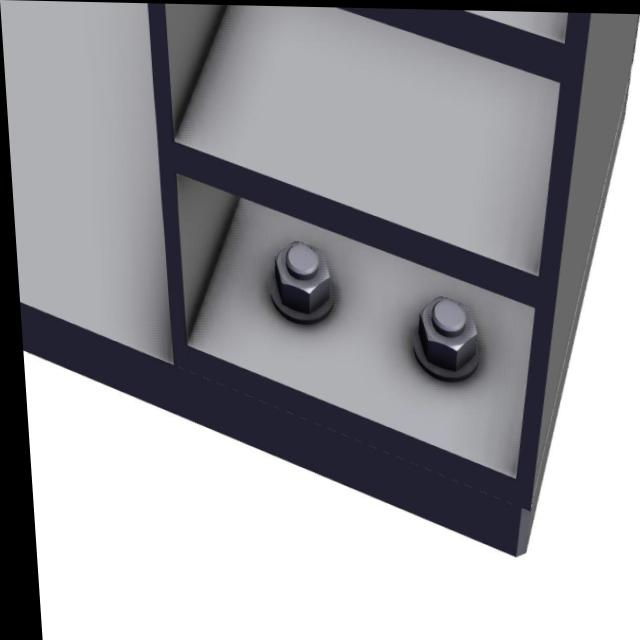Regular bolt: (413, 295, 479, 373), (268, 241, 332, 315)
